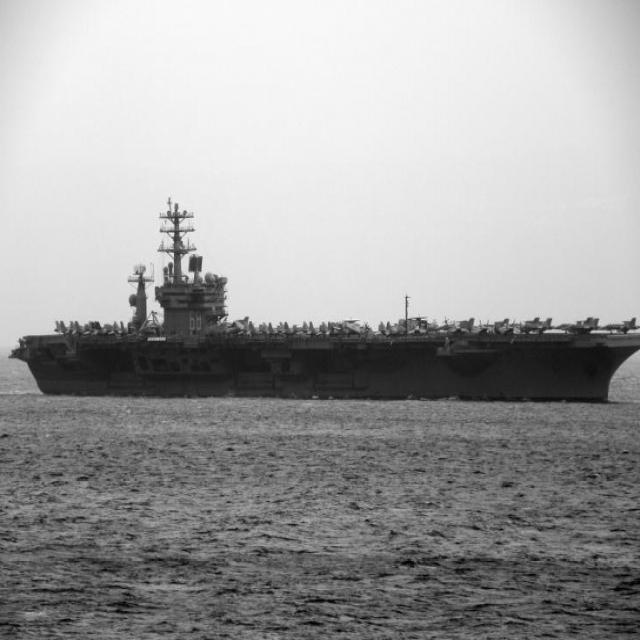Portanaves: (9, 183, 640, 405)
